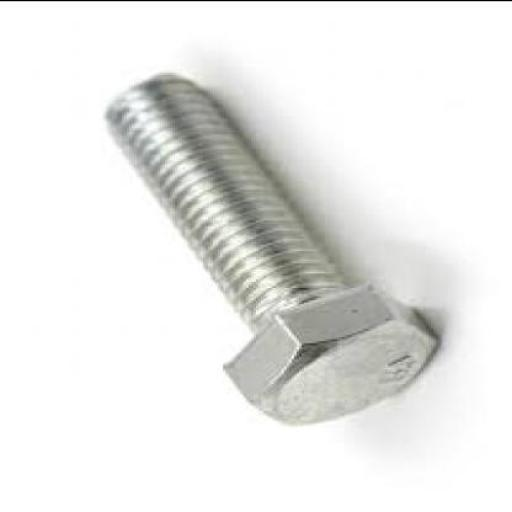metal: (102, 70, 436, 422)
